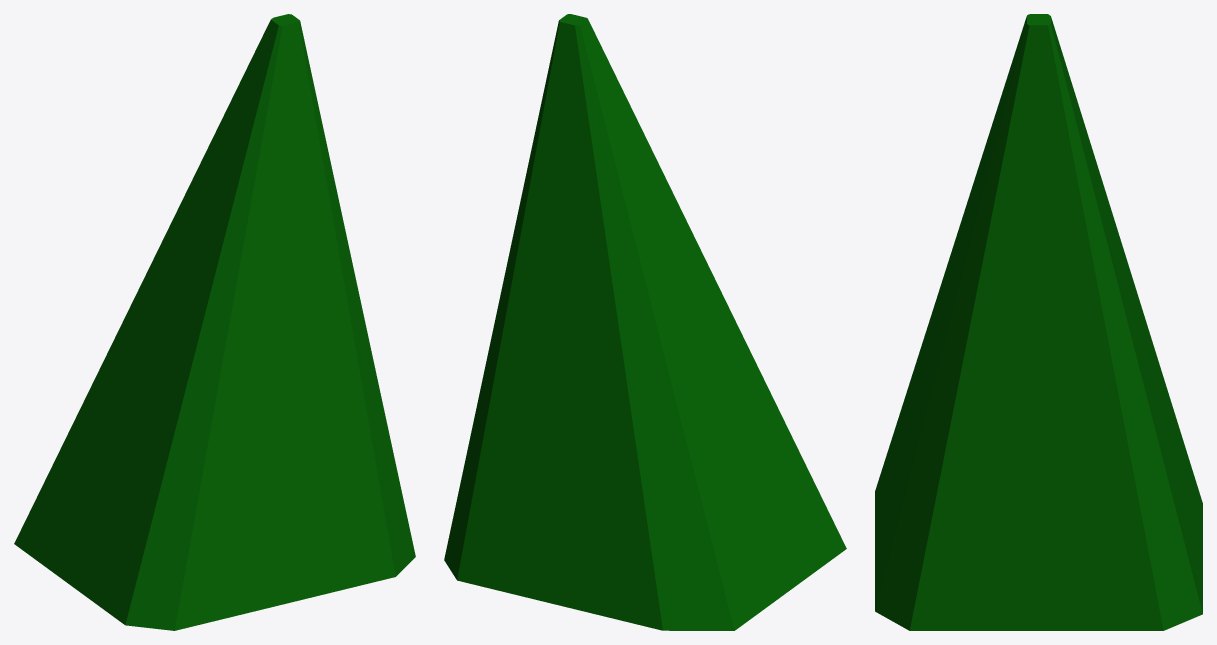
The model's file is Vegetation_Modular_New_Bush_Shrub_Geometric_04.FBX.
3 views of the same model, side by side, from view 1: azimuth 30°, elevation 25°; view 2: azimuth 150°, elevation 25°; view 3: azimuth 270°, elevation 25° (orthographic). The views are drawn at different scales.
Parts seen in each view (by area): view 1: Vegetation_Modular_New_Bush_Shrub_Geometric_04; view 2: Vegetation_Modular_New_Bush_Shrub_Geometric_04; view 3: Vegetation_Modular_New_Bush_Shrub_Geometric_04.
Boxes of the visible parts, box(x1,y1,x2,y2) form: Vegetation_Modular_New_Bush_Shrub_Geometric_04: box(14, 14, 415, 630); Vegetation_Modular_New_Bush_Shrub_Geometric_04: box(444, 14, 846, 630); Vegetation_Modular_New_Bush_Shrub_Geometric_04: box(875, 14, 1202, 630).
Size of the model in its own units: 1840 by 3128 by 1625.
